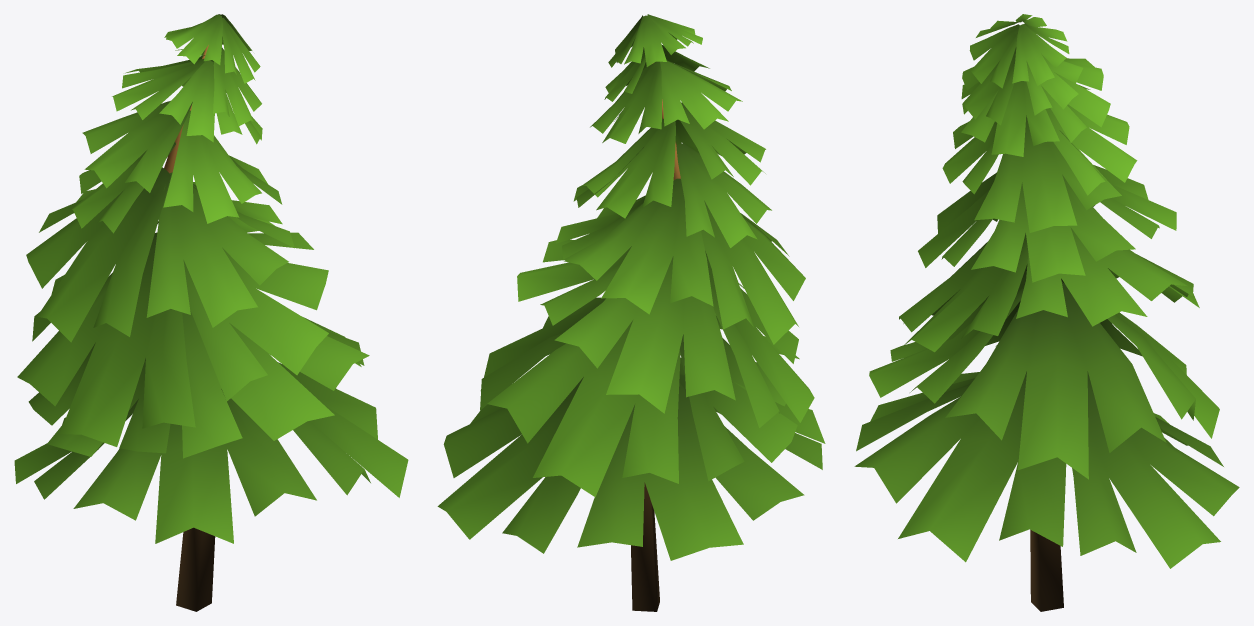
File: tree1.obj
3 renders of one model, left to right at view 1: azimuth 30°, elevation 25°; view 2: azimuth 150°, elevation 25°; view 3: azimuth 270°, elevation 25°, orthographic. The views are drawn at different scales.
Parts seen in each view (by area): view 1: TreeV2; view 2: TreeV2; view 3: TreeV2.
Part boxes in pixels (bbox=[...]): TreeV2: bbox=[14, 14, 408, 611]; TreeV2: bbox=[437, 14, 825, 611]; TreeV2: bbox=[854, 14, 1239, 611].
Bounding box in the file's own units: 6.82 × 11.26 × 6.67.
1 material, 1 textured.
